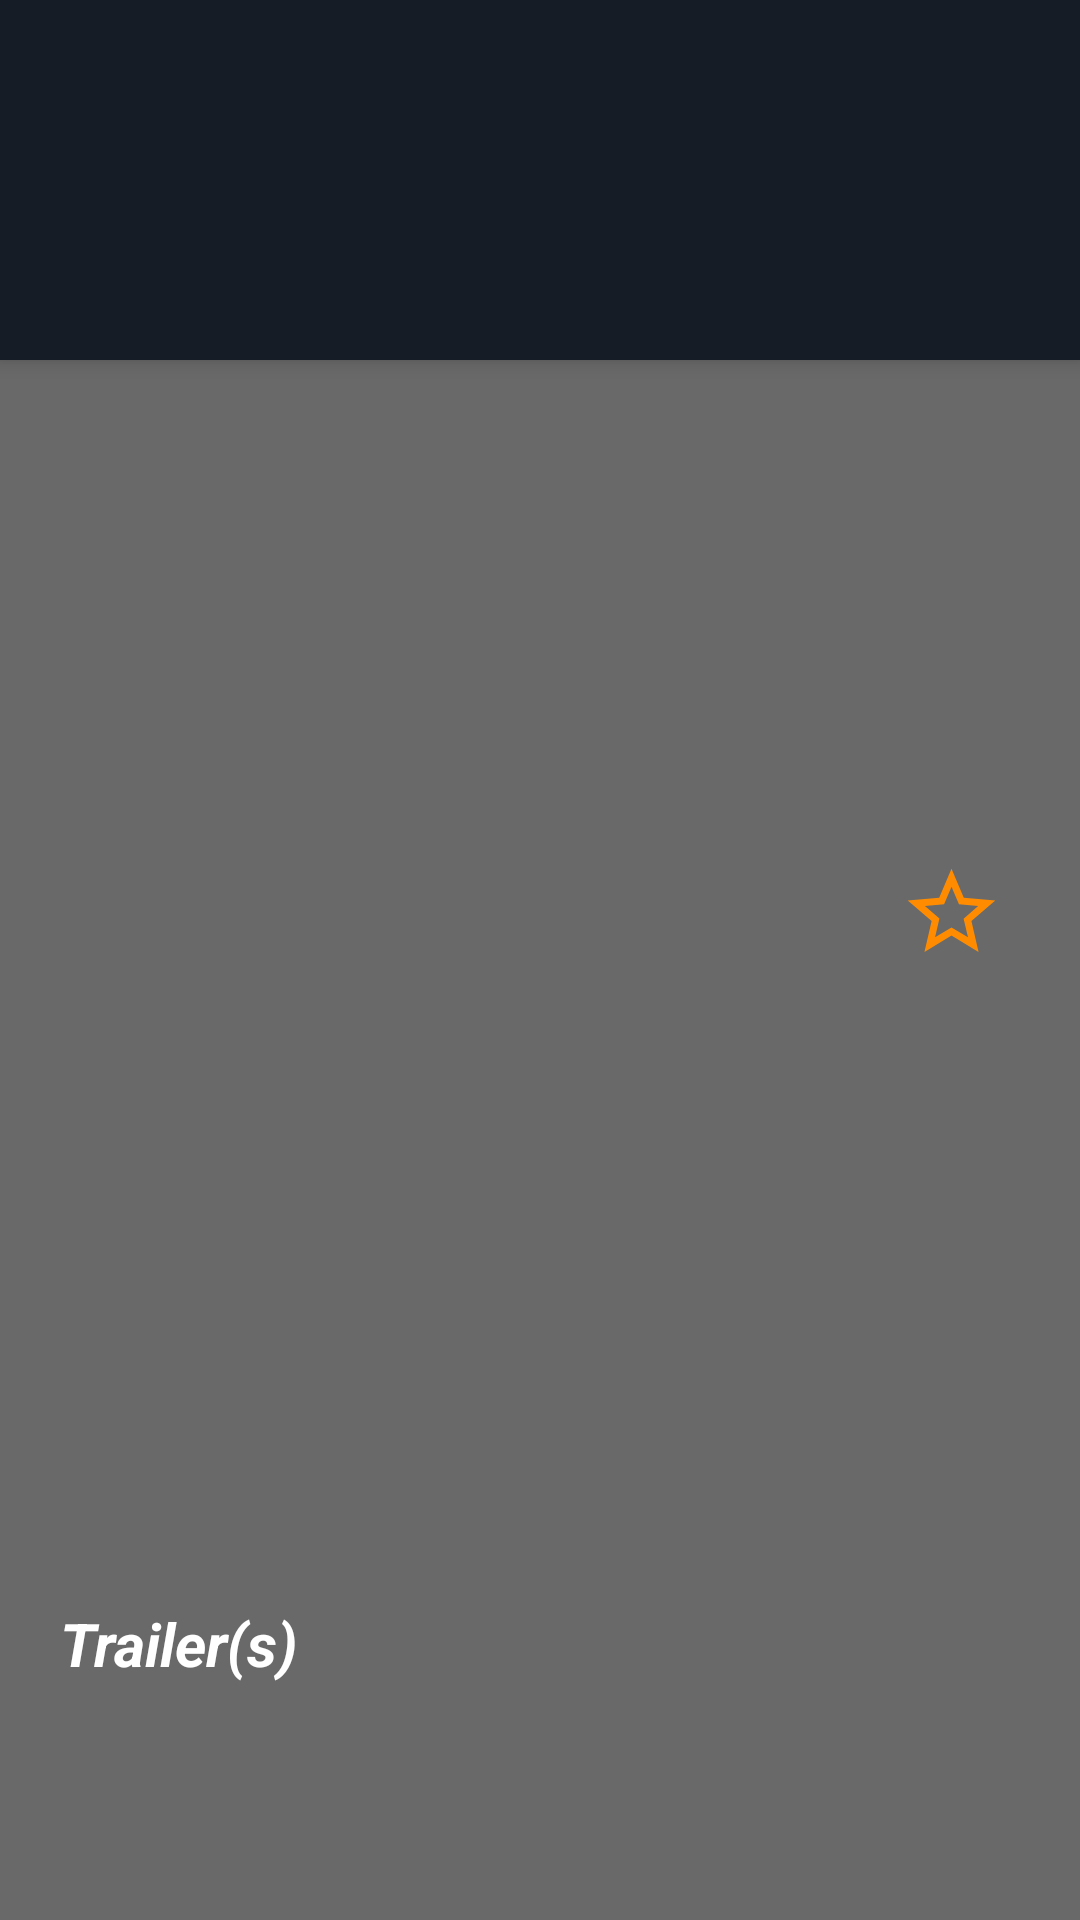

Icon click points for this 1080*1920 phone screenshot, format point (x, y):
unfavorite star: point (951, 910)
